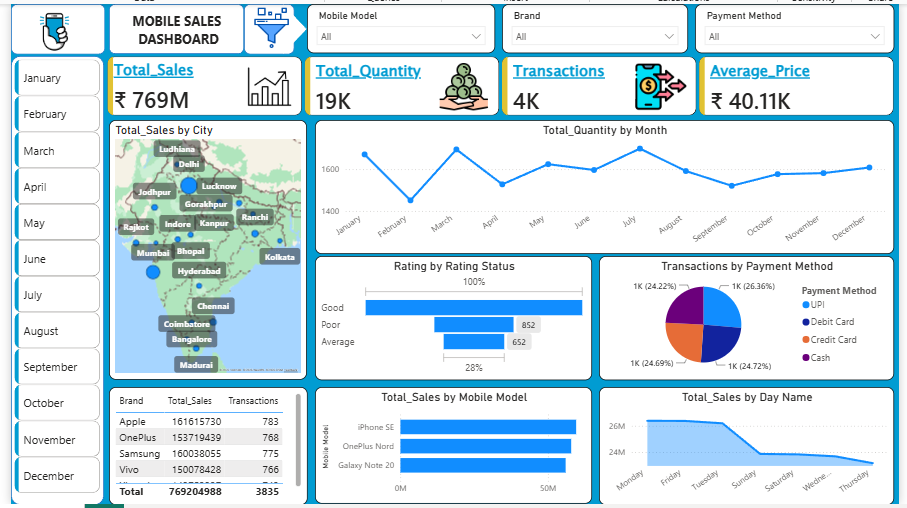

What the dashboard file says about the page in this screenshot:
{"tool":"powerbi","page":{"name":"DASHBOARD","canvas":[1280,720],"ordinal":0},"visuals":[{"type":"shape","box":[141.1,0,194.4,72],"z":0},{"type":"shape","box":[0,74.9,133.9,646.6],"z":1000},{"type":"shape","box":[0,0,135.5,72.6],"z":2000},{"type":"shape","box":[335.5,0,72.6,72.6],"z":3000},{"type":"shape","box":[357.8,0,68.9,72.2],"z":4000},{"type":"textbox","box":[151.2,7.2,180,63.4],"z":5000},{"type":"image","box":[23.8,3.8,78.8,71.2],"z":6000},{"type":"advancedSlicerVisual","fields":{"Values":["Custom_Calendar.Date.Variation.Date Hierarchy.Month"]},"box":[0,74.9,133.9,645.1],"z":7000},{"type":"cardVisual","fields":{"Data":["Mobile_Sales_Data.Total_Sales","Mobile_Sales_Data.Total_Quantity","Mobile_Sales_Data.Transactions","Mobile_Sales_Data.Average_Price"]},"box":[134.4,70.6,1145.6,95.7],"z":8000},{"type":"azureMap","fields":{"Category":["Mobile_Sales_Data.City"],"Size":["Mobile_Sales_Data.Total_Sales"]},"box":[141.1,167,285.1,374.4],"z":9000},{"type":"slicer","fields":{"Values":["Mobile_Sales_Data.Brand"]},"box":[707,0,267.8,70.6],"z":10000},{"type":"slicer","fields":{"Values":["Mobile_Sales_Data.Mobile Model"]},"box":[426.2,0,270.7,70.6],"z":11000},{"type":"slicer","fields":{"Values":["Mobile_Sales_Data.Payment Method"]},"box":[985,0,286.6,70.6],"z":12000},{"type":"image","box":[342.7,4.3,64.8,60.5],"z":13000},{"type":"lineChart","fields":{"Y":["Mobile_Sales_Data.Total_Quantity"],"Category":["Custom_Calendar.Date.Variation.Date Hierarchy.Month"]},"box":[437.8,167,833.8,193],"z":14000},{"type":"funnel","title":"Rating by Rating Status","fields":{"Y":["CountNonNull(Mobile_Sales_Data.Customer Age)"],"Category":["Mobile_Sales_Data.Rating Status"]},"box":[437.8,362.9,398.9,178.6],"z":15000},{"type":"pieChart","fields":{"Y":["Mobile_Sales_Data.Transactions"],"Category":["Mobile_Sales_Data.Payment Method"]},"box":[846.7,362.9,424.8,178.6],"z":16000},{"type":"clusteredBarChart","fields":{"Y":["Mobile_Sales_Data.Total_Sales"],"Category":["Mobile_Sales_Data.Mobile Model"]},"box":[437.8,551.5,398.9,168.5],"z":17000},{"type":"stackedAreaChart","fields":{"Y":["Mobile_Sales_Data.Total_Sales"],"Category":["Custom_Calendar.Day Name"]},"box":[846.6,551,425,169.7],"z":18000},{"type":"tableEx","fields":{"Values":["Mobile_Sales_Data.Brand","Mobile_Sales_Data.Total_Sales","Mobile_Sales_Data.Transactions"]},"box":[141.1,551,285.6,169.7],"z":19000}]}

Visuals, with their boxes in screenshot pixels (x1, y1, x2, y2), scaled from the page's 1280x720 canvas onto the 907x508 screenshot:
shape: Rect(100, 0, 238, 51)
shape: Rect(0, 53, 95, 507)
shape: Rect(0, 0, 96, 51)
shape: Rect(238, 0, 289, 51)
shape: Rect(254, 0, 302, 51)
textbox: Rect(107, 5, 235, 50)
image: Rect(17, 3, 73, 53)
advancedSlicerVisual - Custom_Calendar.Date.Variation.Date Hierarchy.Month: Rect(0, 53, 95, 507)
cardVisual - Mobile_Sales_Data.Total_Sales x Mobile_Sales_Data.Total_Quantity: Rect(95, 50, 906, 117)
azureMap - Mobile_Sales_Data.City x Mobile_Sales_Data.Total_Sales: Rect(100, 118, 302, 382)
slicer - Mobile_Sales_Data.Brand: Rect(501, 0, 691, 50)
slicer - Mobile_Sales_Data.Mobile Model: Rect(302, 0, 494, 50)
slicer - Mobile_Sales_Data.Payment Method: Rect(698, 0, 901, 50)
image: Rect(243, 3, 289, 46)
lineChart - Mobile_Sales_Data.Total_Quantity x Custom_Calendar.Date.Variation.Date Hierarchy.Month: Rect(310, 118, 901, 254)
"Rating by Rating Status" funnel: Rect(310, 256, 593, 382)
pieChart - Mobile_Sales_Data.Transactions x Mobile_Sales_Data.Payment Method: Rect(600, 256, 901, 382)
clusteredBarChart - Mobile_Sales_Data.Total_Sales x Mobile_Sales_Data.Mobile Model: Rect(310, 389, 593, 507)
stackedAreaChart - Mobile_Sales_Data.Total_Sales x Custom_Calendar.Day Name: Rect(600, 389, 901, 507)
tableEx - Mobile_Sales_Data.Brand x Mobile_Sales_Data.Total_Sales: Rect(100, 389, 302, 507)
